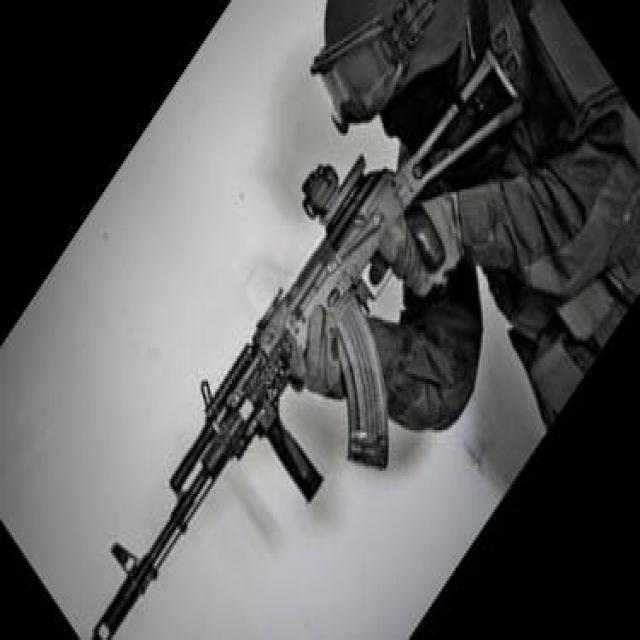weapon: (90, 50, 523, 640)
